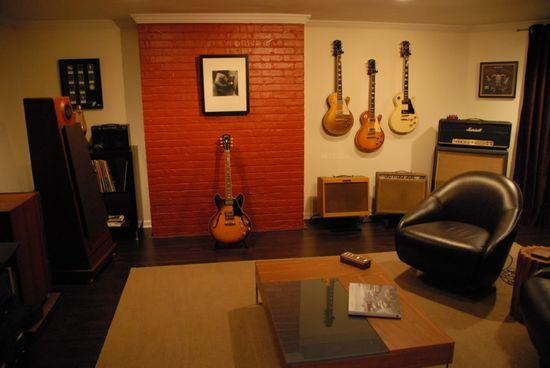acousticguitar: (209, 133, 252, 245), (386, 38, 420, 136), (353, 60, 388, 155), (322, 39, 355, 136)
